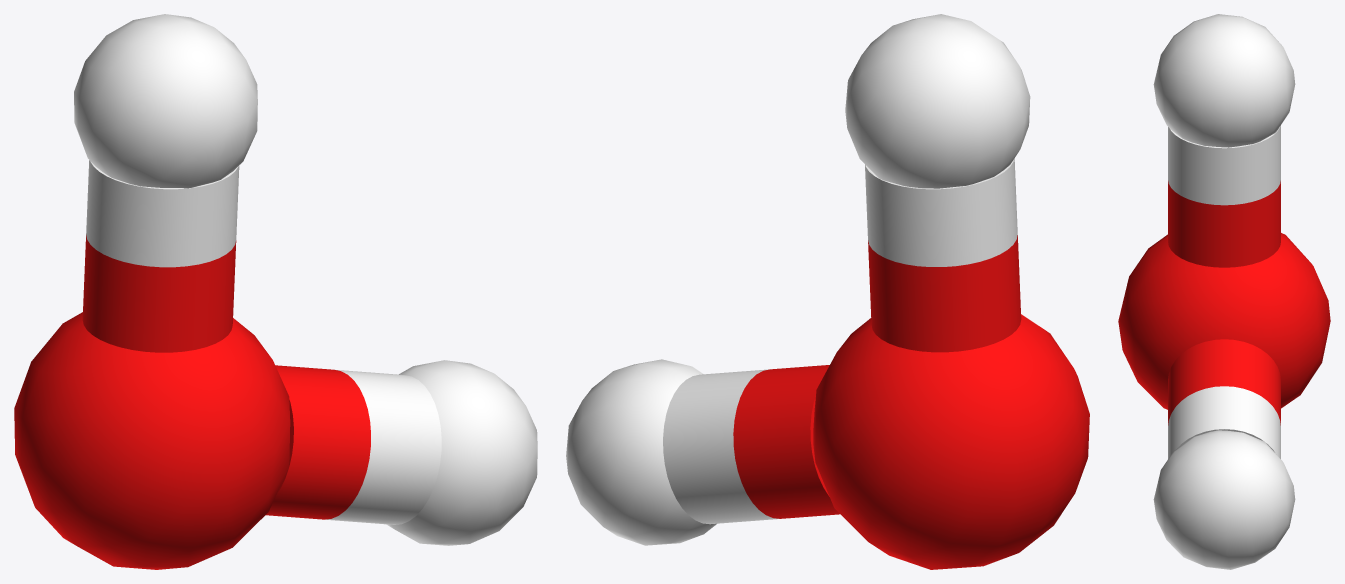
3 views of the same model, side by side, from view 1: azimuth 30°, elevation 25°; view 2: azimuth 150°, elevation 25°; view 3: azimuth 270°, elevation 25° (orthographic). The views are drawn at different scales.
Visible parts, largest first — view 1: subnode_0, subnode_1, subnode_2, subnode_3, subnode_4, subnode_5, subnode_6; view 2: subnode_0, subnode_1, subnode_2, subnode_3, subnode_4, subnode_5, subnode_6; view 3: subnode_0, subnode_2, subnode_1, subnode_3, subnode_4, subnode_5, subnode_6.
Part boxes in pixels (x1,y1,x2,y2): subnode_0: (14, 312, 290, 569); subnode_1: (74, 14, 257, 188); subnode_2: (386, 360, 537, 545); subnode_3: (82, 235, 236, 352); subnode_4: (86, 160, 239, 267); subnode_5: (266, 365, 370, 519); subnode_6: (326, 370, 441, 524); subnode_0: (813, 314, 1089, 569); subnode_1: (845, 14, 1030, 188); subnode_2: (566, 359, 716, 545); subnode_3: (868, 235, 1021, 352); subnode_4: (865, 158, 1017, 266); subnode_5: (733, 365, 839, 518); subnode_6: (663, 369, 778, 524); subnode_0: (1118, 233, 1330, 409); subnode_2: (1153, 430, 1295, 569); subnode_1: (1153, 14, 1295, 147); subnode_3: (1168, 181, 1280, 267); subnode_4: (1168, 125, 1280, 205); subnode_5: (1168, 339, 1280, 425); subnode_6: (1168, 386, 1280, 458).
Size of the model in its own units: 1.52 by 1.71 by 0.75.
